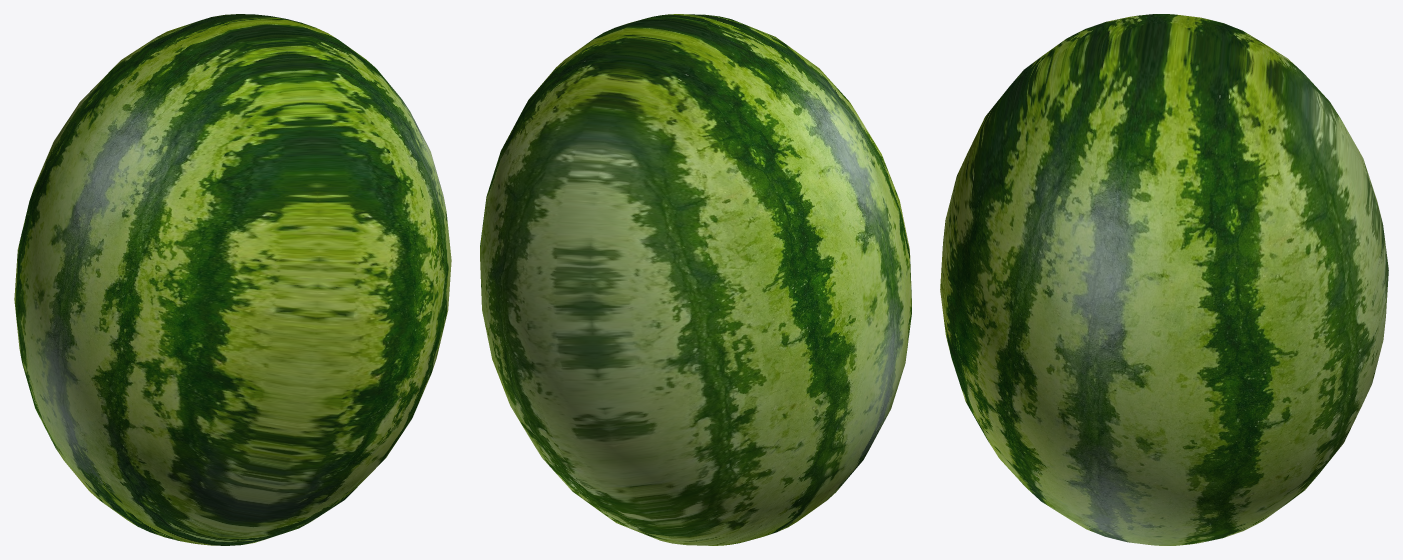
File: watermelon.glb
The picture shows the model from 3 angles, left to right: view 1: azimuth 30°, elevation 25°; view 2: azimuth 150°, elevation 25°; view 3: azimuth 270°, elevation 25°; orthographic projection. The views are drawn at different scales.
Parts seen in each view (by area): view 1: Sphere.001; view 2: Sphere.001; view 3: Sphere.001.
Boxes of the visible parts, left/top/right/bottom form: Sphere.001: left=14, top=14, right=451, bottom=545; Sphere.001: left=480, top=14, right=911, bottom=545; Sphere.001: left=940, top=14, right=1388, bottom=545.
Bounding box in the file's own units: 2.05 × 2.55 × 2.03.
1 material, 1 textured.
